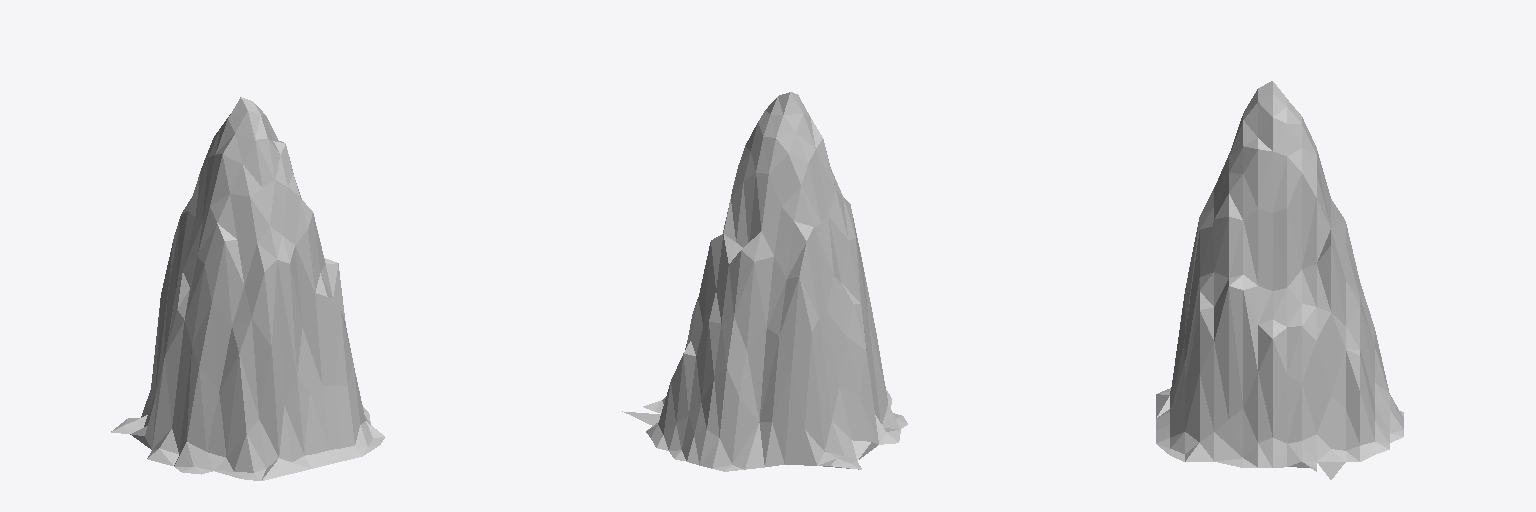
Rendered from tree_36.obj.
3 views of the same model, side by side, from view 1: azimuth 30°, elevation 25°; view 2: azimuth 150°, elevation 25°; view 3: azimuth 270°, elevation 25° (orthographic).
Visible parts, largest first — view 1: tree_36_minus_dtm; view 2: tree_36_minus_dtm; view 3: tree_36_minus_dtm.
Part boxes in pixels (left/top/right/bottom): tree_36_minus_dtm: left=111, top=97, right=384, bottom=480; tree_36_minus_dtm: left=622, top=92, right=907, bottom=471; tree_36_minus_dtm: left=1156, top=81, right=1403, bottom=479.
Bounding box in the file's own units: 19 × 25.09 × 17.